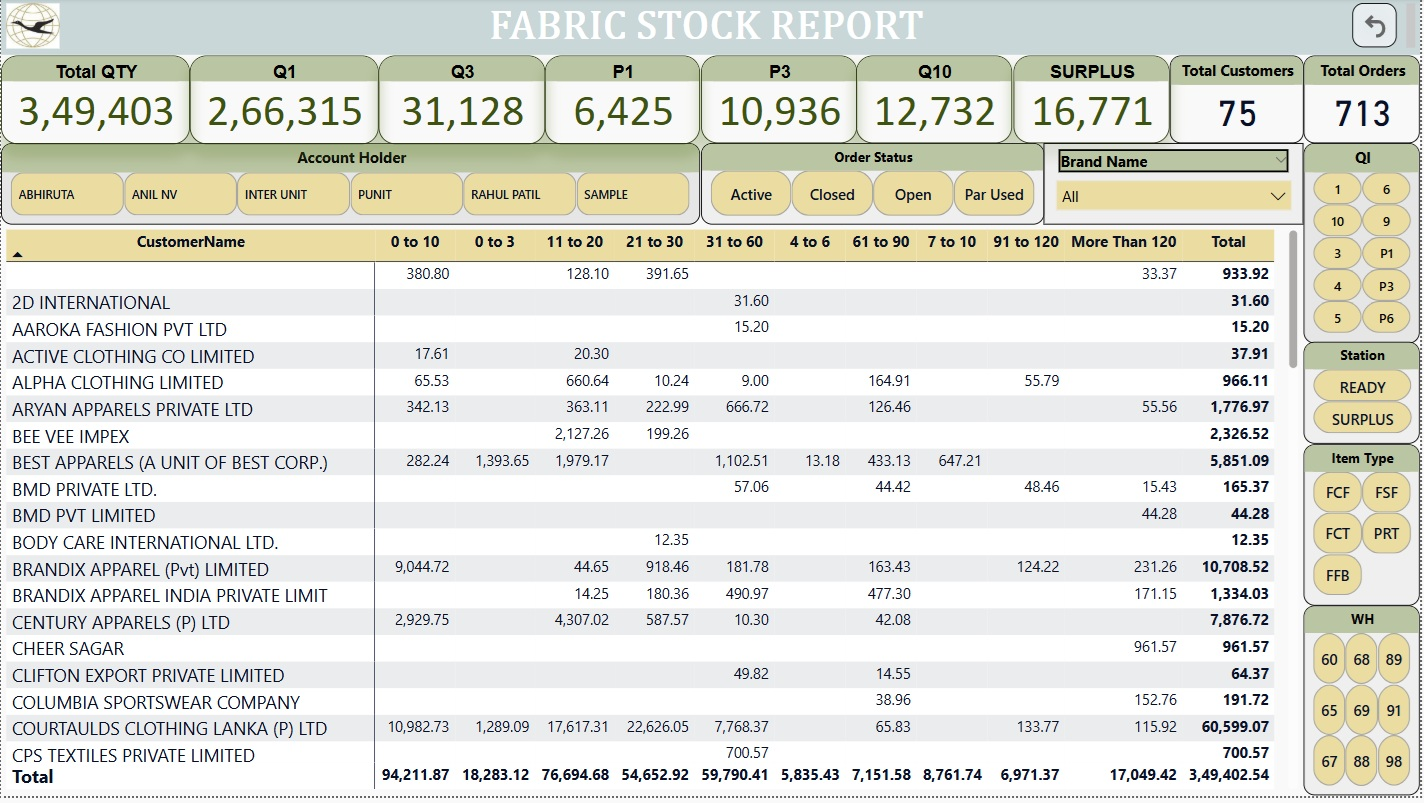

The dashboard page shown, as its layout file describes it:
{"tool":"powerbi","page":{"name":"Ql","canvas":[1280,720],"ordinal":1},"visuals":[{"type":"textbox","box":[0,0,1279.9,51.3],"z":0},{"type":"image","box":[0,0,57.6,50.8],"z":1000},{"type":"advancedSlicerVisual","fields":{"Values":["Stock.Account Holder"]},"box":[0,130.8,630.8,73.3],"z":2000},{"type":"card","title":"Total QTY","fields":{"Values":["Stock.KGs"]},"box":[0,51.3,170,80],"z":3000},{"type":"card","title":"Q1","fields":{"Values":["Stock.KGs"]},"box":[169.9,51.3,170,80],"z":4000},{"type":"card","title":"Q3","fields":{"Values":["Stock.KGs"]},"box":[339.8,51.3,150,80],"z":5000},{"type":"card","title":"P1","fields":{"Values":["Stock.KGs"]},"box":[490.2,51.3,140,80],"z":6000},{"type":"card","title":"P3","fields":{"Values":["Stock.KGs"]},"box":[630.8,51.3,140.6,79.5],"z":7000},{"type":"card","title":"Q10","fields":{"Values":["Stock.KGs"]},"box":[771.3,51.3,140.6,79.5],"z":8000},{"type":"card","title":"SURPLUS","fields":{"Values":["Stock.KGs"]},"box":[913.1,51.3,140.6,79.5],"z":9000},{"type":"advancedSlicerVisual","fields":{"Values":["Stock.Ql"]},"box":[1174.7,130.8,105.1,180.9],"z":10000},{"type":"card","title":"Total Customers","fields":{"Values":["Stock.CustomerName"]},"box":[1053.7,51.3,121,79.5],"z":11000},{"type":"card","title":"Total Orders","fields":{"Values":["Stock.ProjectCode/ OrderNo"]},"box":[1174.7,51.3,105.1,79.5],"z":12000},{"type":"advancedSlicerVisual","fields":{"Values":["Stock.Item Type"]},"box":[1174.7,402.2,105.1,145.5],"z":13000},{"type":"actionButton","title":"RESET","box":[1218.7,4.9,40,40.3],"z":14000},{"type":"pivotTable","fields":{"Rows":["Stock.CustomerName"],"Values":["Stock.KGs"],"Columns":["Stock.Category"]},"box":[0,204.1,1174.7,514.6],"z":15000},{"type":"advancedSlicerVisual","fields":{"Values":["Stock.Station"]},"box":[1174.7,310.5,105.1,91.7],"z":16000},{"type":"advancedSlicerVisual","fields":{"Values":["Stock.WH"]},"box":[1174.7,547.6,105.1,171.1],"z":17000},{"type":"advancedSlicerVisual","fields":{"Values":["Stock.Order Status"]},"box":[630.8,130.8,309.3,73.3],"z":18000},{"type":"slicer","fields":{"Values":["Stock.Brand Name"]},"box":[940,130.8,234.7,73.3],"z":19000}]}

Visuals, with their boxes in screenshot pixels (x1, y1, x2, y2), scaled from the page's 1280x720 canvas onto the 1424x803 screenshot:
textbox: region(0, 0, 1423, 57)
image: region(0, 0, 64, 57)
advancedSlicerVisual - Stock.Account Holder: region(0, 146, 702, 228)
"Total QTY" card: region(0, 57, 189, 146)
"Q1" card: region(189, 57, 378, 146)
"Q3" card: region(378, 57, 545, 146)
"P1" card: region(545, 57, 701, 146)
"P3" card: region(702, 57, 858, 146)
"Q10" card: region(858, 57, 1014, 146)
"SURPLUS" card: region(1016, 57, 1172, 146)
advancedSlicerVisual - Stock.Ql: region(1307, 146, 1423, 348)
"Total Customers" card: region(1172, 57, 1307, 146)
"Total Orders" card: region(1307, 57, 1423, 146)
advancedSlicerVisual - Stock.Item Type: region(1307, 449, 1423, 611)
"RESET" actionButton: region(1356, 5, 1400, 50)
pivotTable - Stock.CustomerName x Stock.KGs: region(0, 228, 1307, 802)
advancedSlicerVisual - Stock.Station: region(1307, 346, 1423, 449)
advancedSlicerVisual - Stock.WH: region(1307, 611, 1423, 802)
advancedSlicerVisual - Stock.Order Status: region(702, 146, 1046, 228)
slicer - Stock.Brand Name: region(1046, 146, 1307, 228)
